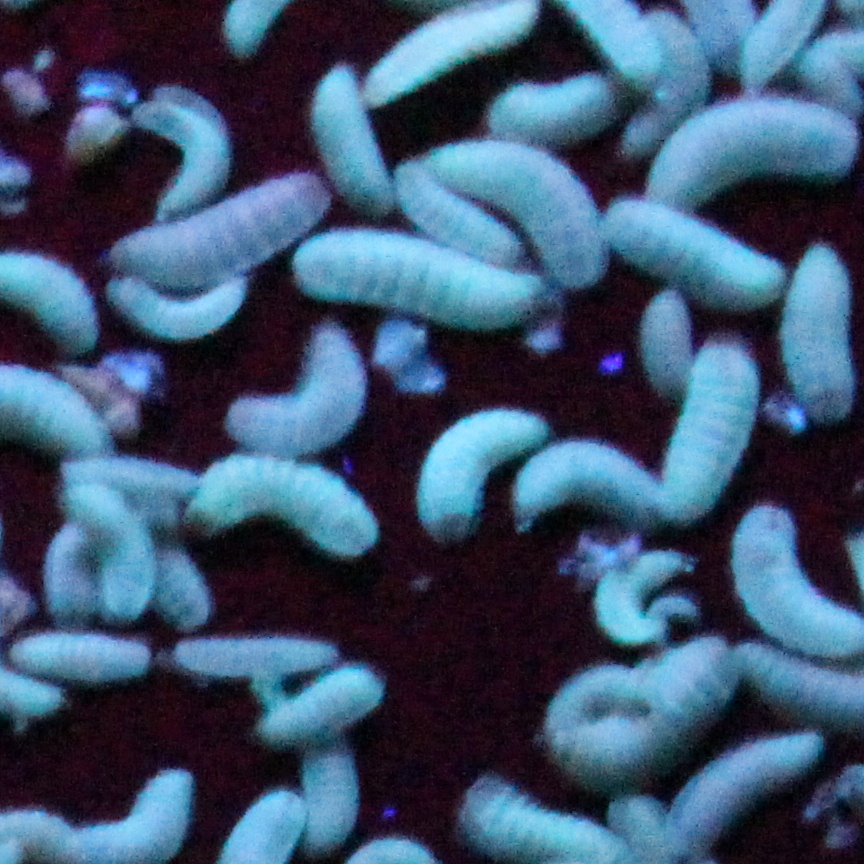larve: (299, 236, 538, 337), (666, 100, 855, 215), (608, 203, 776, 313), (434, 149, 601, 259), (374, 5, 546, 108), (403, 408, 536, 535), (721, 514, 848, 643), (677, 733, 815, 851), (228, 335, 369, 449), (661, 343, 756, 511), (114, 188, 326, 263), (564, 659, 709, 768), (57, 483, 166, 616), (310, 68, 403, 217), (787, 240, 859, 429), (190, 465, 366, 534), (514, 440, 654, 525), (128, 90, 233, 201), (105, 270, 259, 341), (471, 786, 608, 864), (398, 175, 521, 259), (3, 248, 101, 352), (13, 631, 158, 693), (258, 677, 388, 746), (86, 790, 202, 863), (165, 635, 339, 681), (488, 86, 623, 141), (607, 548, 682, 640)
